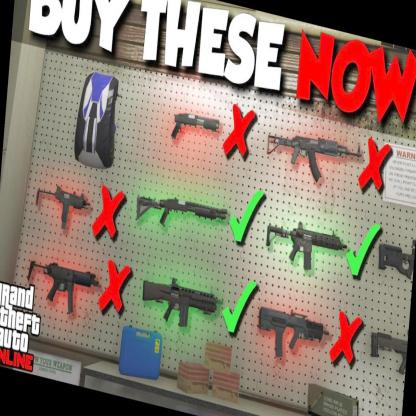rifle: (133, 183, 227, 243), (258, 213, 352, 273), (268, 127, 362, 187), (139, 274, 217, 336), (21, 256, 97, 318)
